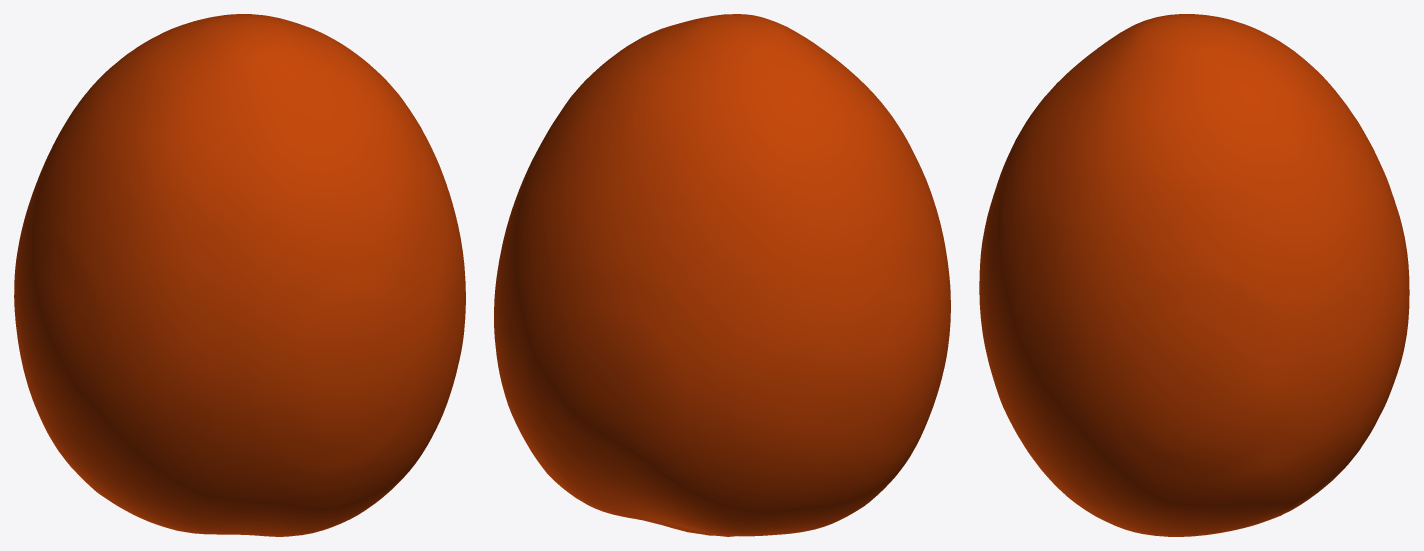
The model's file is avacado_smooth_new.glb.
The picture shows the model from 3 angles, left to right: view 1: azimuth 30°, elevation 25°; view 2: azimuth 150°, elevation 25°; view 3: azimuth 270°, elevation 25°; orthographic projection. The views are drawn at different scales.
Visible parts, largest first — view 1: avocado_export_1.001; view 2: avocado_export_1.001; view 3: avocado_export_1.001.
Boxes of the visible parts, box(x1,y1,x2,y2) form: avocado_export_1.001: box(14, 14, 465, 536); avocado_export_1.001: box(494, 14, 950, 536); avocado_export_1.001: box(979, 14, 1409, 536).
Bounding box in the file's own units: 0.3351 × 0.397 × 0.3262.
